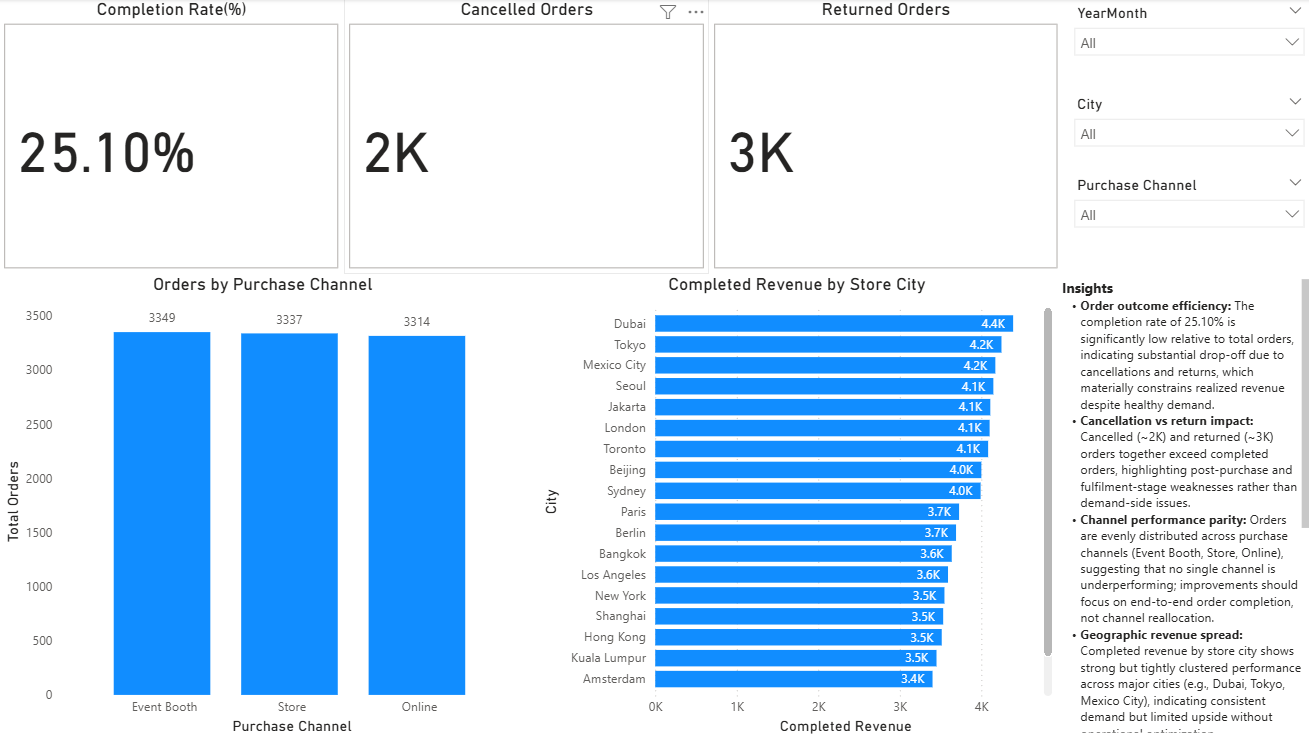

The dashboard page shown, as its layout file describes it:
{"tool":"powerbi","page":{"name":"Sales Analysis","canvas":[1280,720],"ordinal":1},"visuals":[{"type":"clusteredColumnChart","title":"Orders by Purchase Channel","fields":{"Category":["popmart_orders.Purchase Channel"],"Y":["popmart_order_items.Total Orders"]},"box":[0,267.1,513.3,452.4],"z":0},{"type":"cardVisual","title":"Completion Rate(%)","fields":{"Data":["popmart_order_items.Completion Rate %"]},"box":[0,0,335.2,267.1],"z":1000},{"type":"clusteredBarChart","title":"Completed Revenue by Store City","fields":{"Category":["popmart_stores.City"],"Y":["popmart_order_items.Completed Revenue"]},"box":[523.3,267.1,506,452.4],"z":2000},{"type":"cardVisual","title":"Cancelled Orders","fields":{"Data":["popmart_order_items.Cancelled Orders"]},"box":[335.2,0,355.8,267.1],"z":3000},{"type":"cardVisual","title":"Returned Orders","fields":{"Data":["popmart_order_items.Returned Orders"]},"box":[691.1,0,344.5,267.1],"z":4000},{"type":"slicer","fields":{"Values":["DateTable.YearMonth"]},"box":[1035.6,0,244.4,88.7],"z":5000},{"type":"slicer","fields":{"Values":["popmart_stores.City"]},"box":[1035.6,88.7,244.4,78.4],"z":6000},{"type":"slicer","fields":{"Values":["popmart_orders.Purchase Channel"]},"box":[1035.6,167.1,244.4,85.6],"z":7000},{"type":"textbox","box":[1029.3,267.1,250.7,451.5],"z":7001}]}

Visuals, with their boxes in screenshot pixels (x1, y1, x2, y2), scaled from the page's 1280x720 canvas onto the 1309x737 screenshot:
"Orders by Purchase Channel" clusteredColumnChart: 0 273 525 736
"Completion Rate(%)" cardVisual: 0 0 343 273
"Completed Revenue by Store City" clusteredBarChart: 535 273 1053 736
"Cancelled Orders" cardVisual: 343 0 707 273
"Returned Orders" cardVisual: 707 0 1059 273
slicer - DateTable.YearMonth: 1059 0 1308 91
slicer - popmart_stores.City: 1059 91 1308 171
slicer - popmart_orders.Purchase Channel: 1059 171 1308 259
textbox: 1053 273 1308 736
